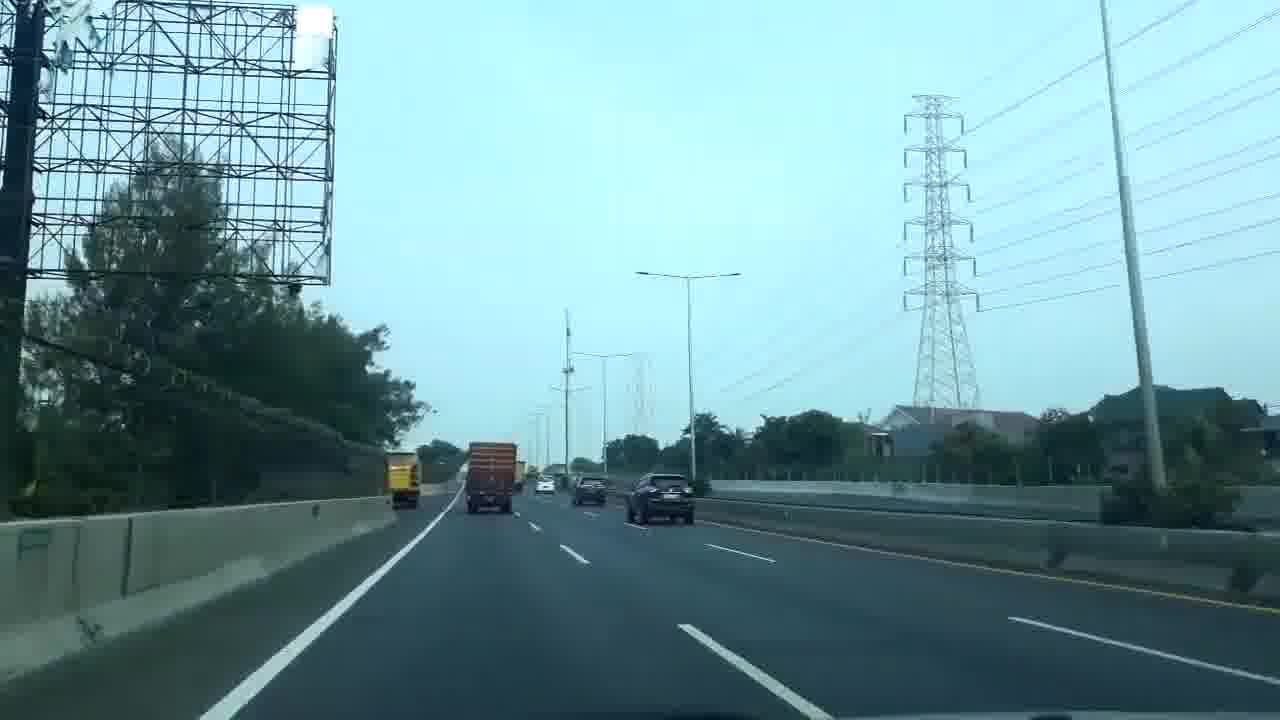plate_positive: (663, 494, 680, 500)
